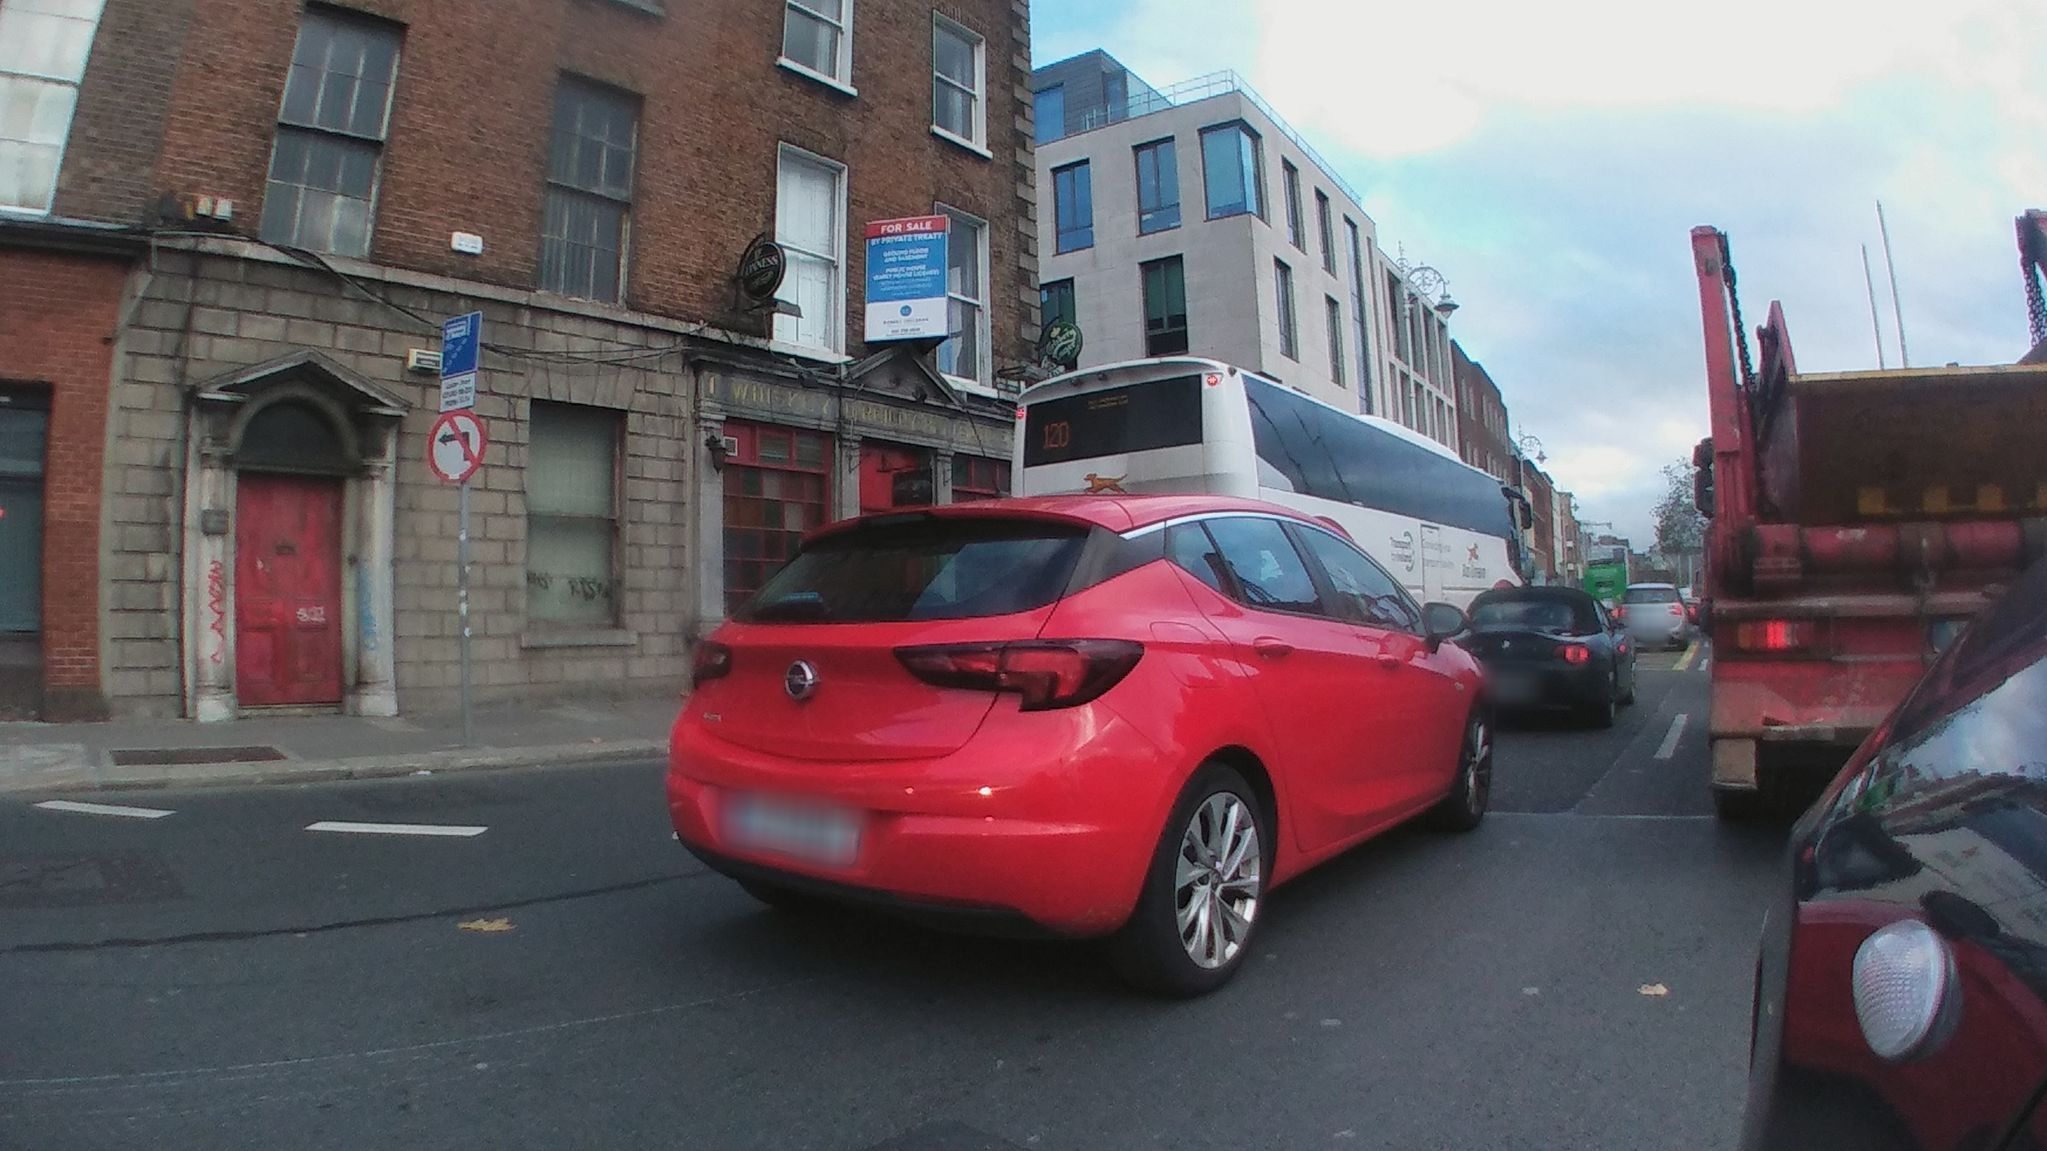property sign: (846, 200, 962, 343)
